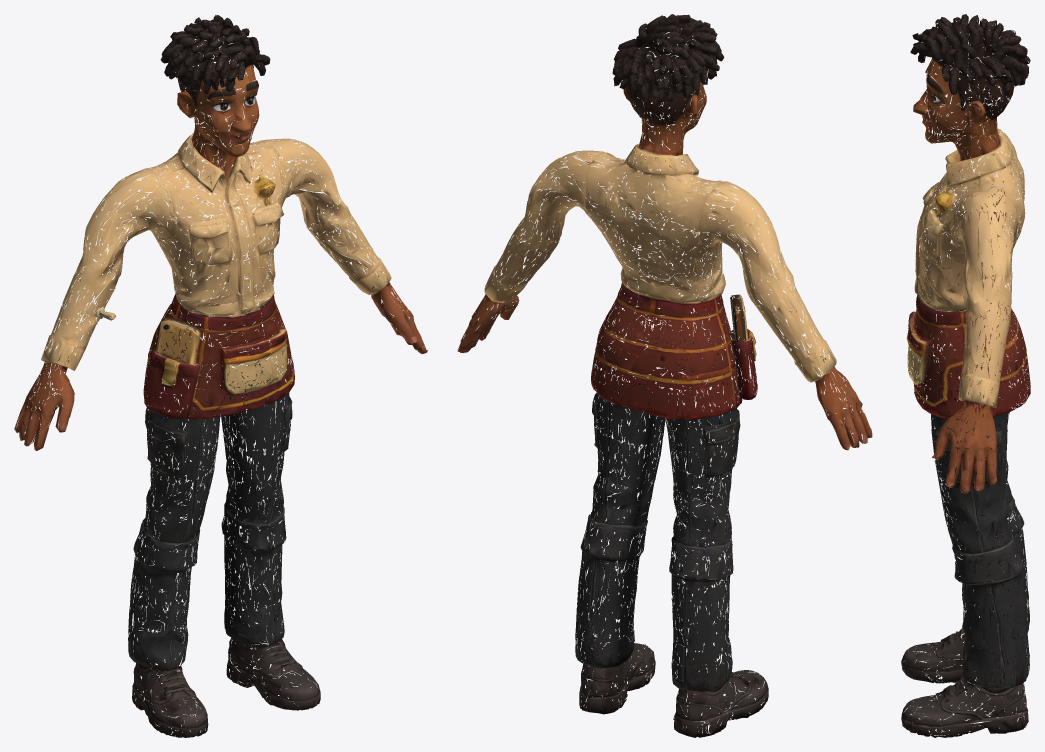
The model's file is lantern-waiter.glb.
3 views of the same model, side by side, from view 1: azimuth 30°, elevation 25°; view 2: azimuth 150°, elevation 25°; view 3: azimuth 270°, elevation 25° (orthographic).
Visible parts, largest first — view 1: tripo_node_a36c2a84-5745-41a0-a1bb-20a1b9b1df85; view 2: tripo_node_a36c2a84-5745-41a0-a1bb-20a1b9b1df85; view 3: tripo_node_a36c2a84-5745-41a0-a1bb-20a1b9b1df85.
Part boxes in pixels (x1=…): tripo_node_a36c2a84-5745-41a0-a1bb-20a1b9b1df85: x1=14, y1=15, x2=427, y2=737; tripo_node_a36c2a84-5745-41a0-a1bb-20a1b9b1df85: x1=457, y1=14, x2=872, y2=737; tripo_node_a36c2a84-5745-41a0-a1bb-20a1b9b1df85: x1=901, y1=14, x2=1030, y2=737.
Size of the model in its own units: 0.5985 by 0.9815 by 0.1691.
Materials: 1 (1 with a texture image).
